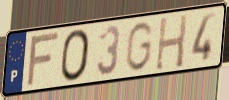3: (96, 24, 120, 79)
4: (190, 12, 215, 64)
F: (25, 29, 62, 89)
G: (124, 20, 155, 73)
H: (154, 12, 189, 72)
O: (60, 27, 92, 83)
